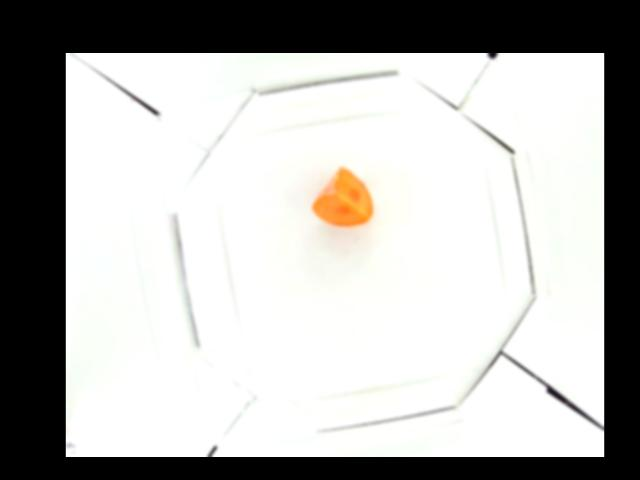Carrot: (313, 167, 374, 224)
